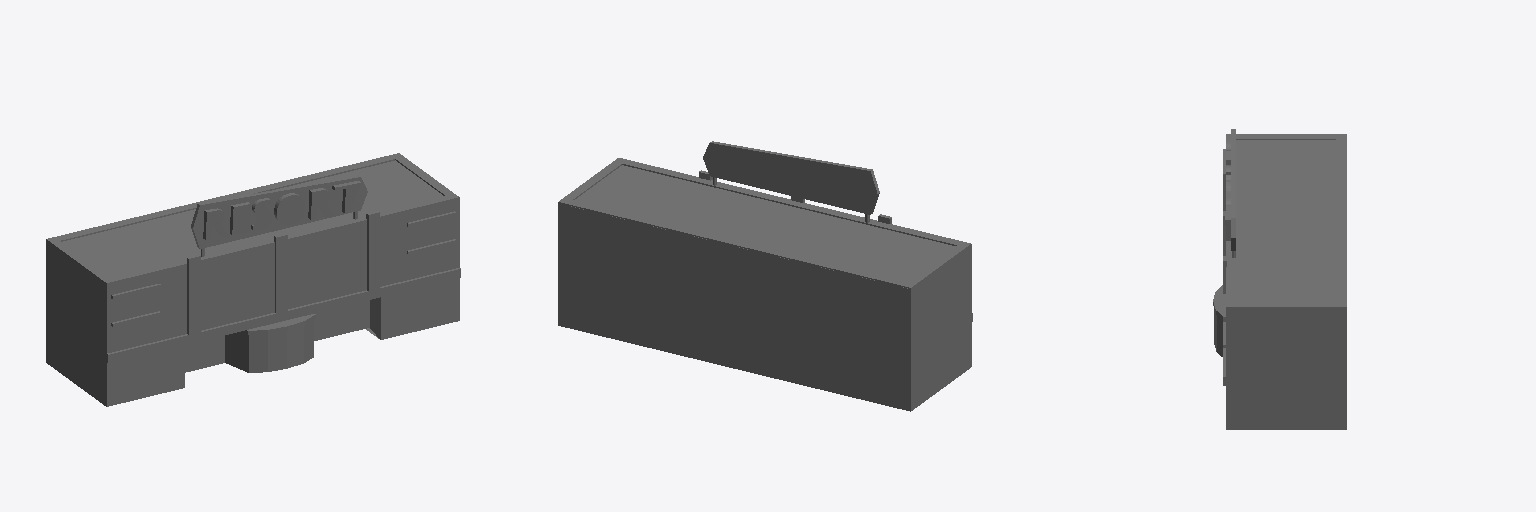
Rendered from RESORT.obj.
The picture shows the model from 3 angles: view 1: azimuth 30°, elevation 25°; view 2: azimuth 150°, elevation 25°; view 3: azimuth 270°, elevation 25°; orthographic projection.
Visible parts, largest first — view 1: RESORT:RESORT; view 2: RESORT:RESORT; view 3: RESORT:RESORT.
Part boxes in pixels (bbox=[...]): RESORT:RESORT: bbox=[46, 153, 460, 406]; RESORT:RESORT: bbox=[558, 141, 972, 411]; RESORT:RESORT: bbox=[1213, 129, 1346, 429].
Size of the model in its own units: 22.1 by 10.56 by 7.26.